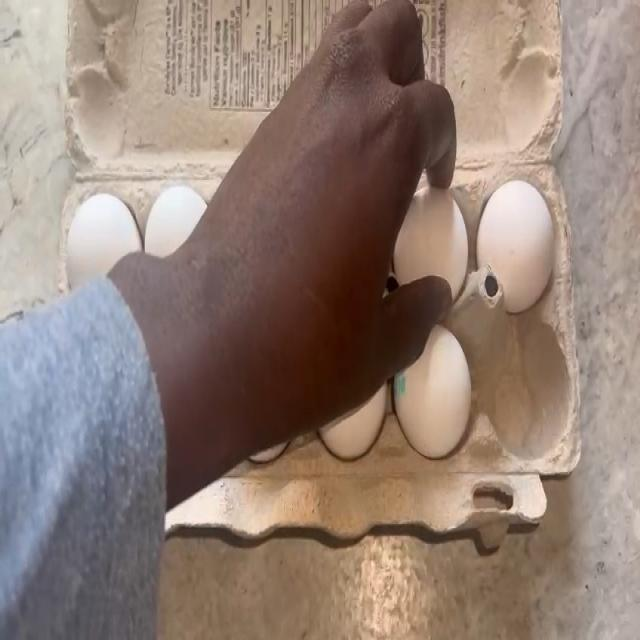Egg: (492, 195, 552, 292), (68, 188, 122, 260), (411, 366, 467, 434), (422, 203, 462, 271), (156, 182, 189, 242)
